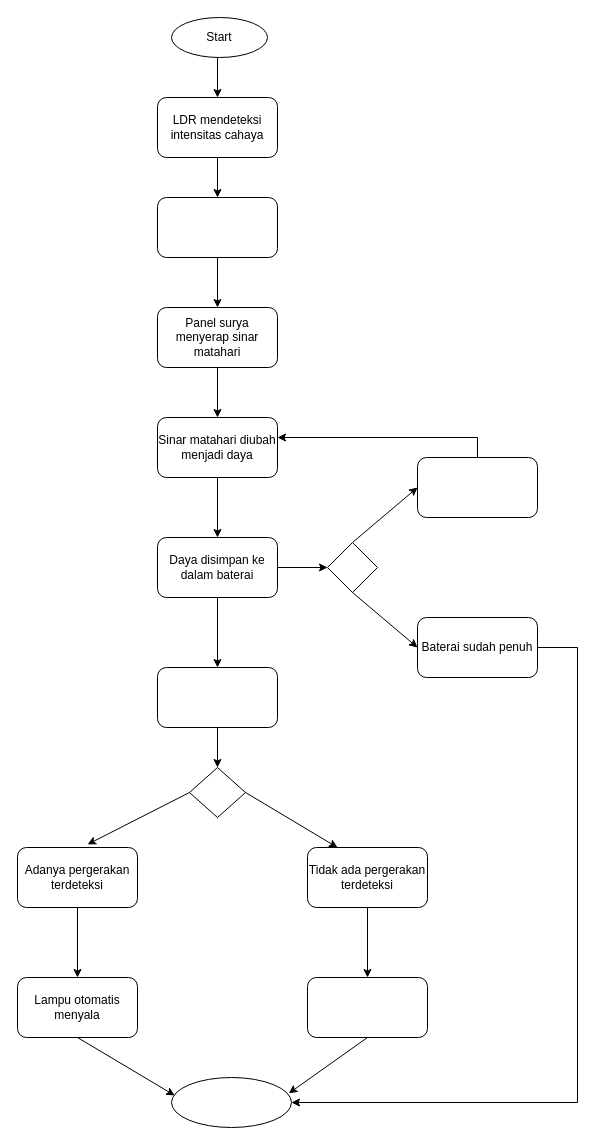
This 603x1145 diagram has some shape labels left out. The centre of each missing label's shape, as x and y in pixels:
Baterai belum penuh: point 477,487
End: point 231,1102
Lampu tidak menyala: point 367,1007
PIR mendeteksi pergerakan: point 217,697
Servo menggerakan panel kearah sinar matahari: point 217,227
